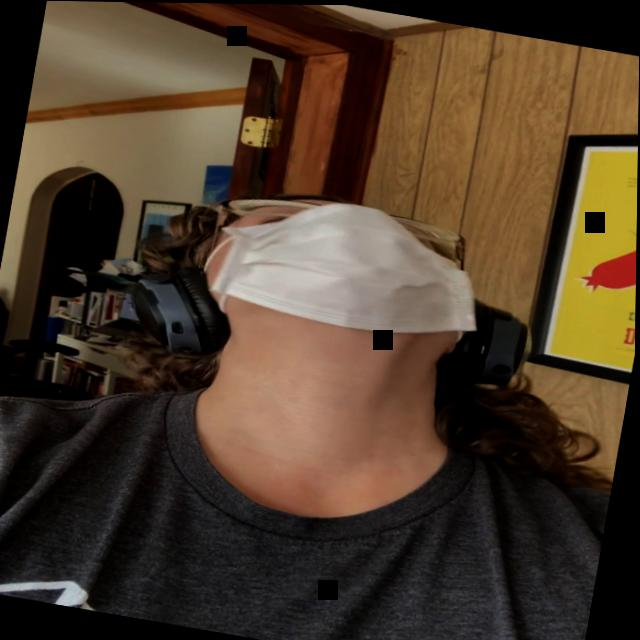Mask: (194, 181, 496, 360)
